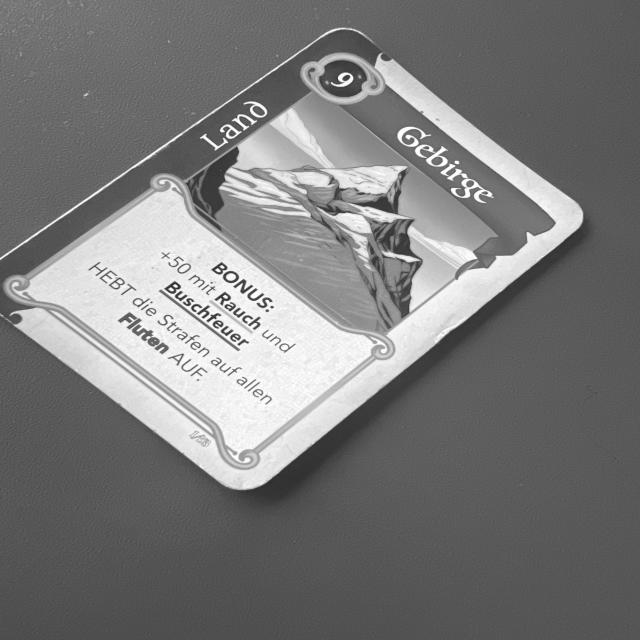Mountain: (0, 26, 597, 499)
